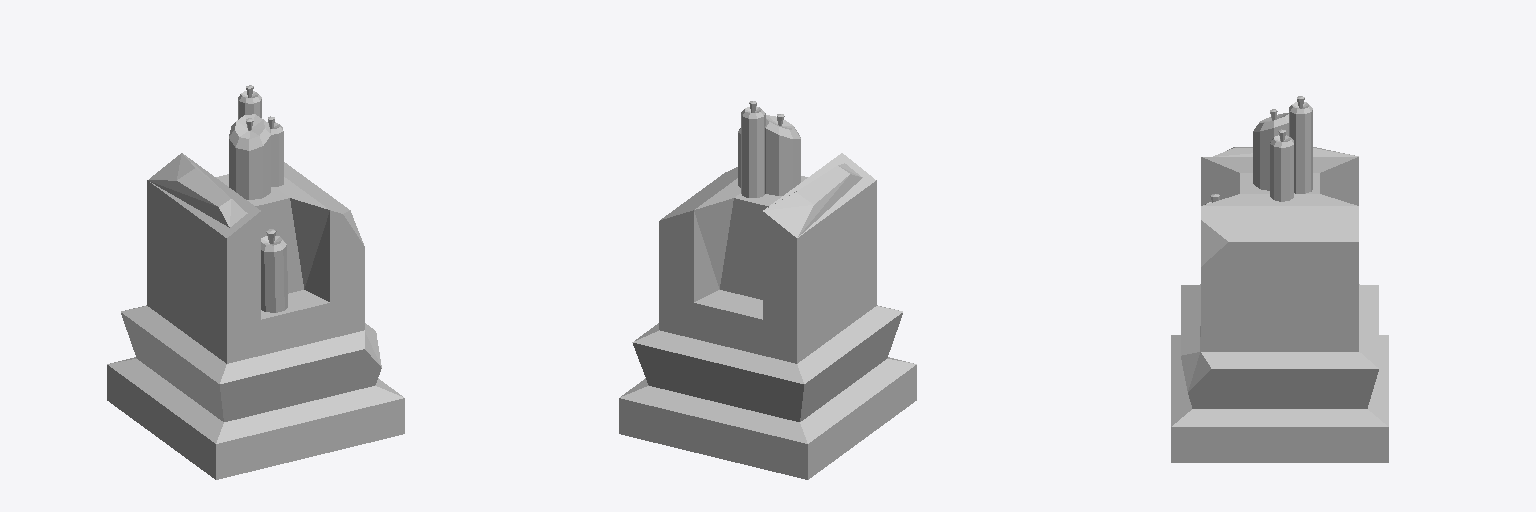
Rendered from shrine_candles.obj.
The picture shows the model from 3 angles: view 1: azimuth 30°, elevation 25°; view 2: azimuth 150°, elevation 25°; view 3: azimuth 270°, elevation 25°; orthographic projection.
Parts seen in each view (by area): view 1: shrine_candles_Cube.620; view 2: shrine_candles_Cube.620; view 3: shrine_candles_Cube.620.
Boxes of the visible parts, <box> form: shrine_candles_Cube.620: <box>107,85,404,479</box>; shrine_candles_Cube.620: <box>619,101,916,479</box>; shrine_candles_Cube.620: <box>1171,96,1388,462</box>.
Bounding box in the file's own units: 1.1 × 1.79 × 1.1.